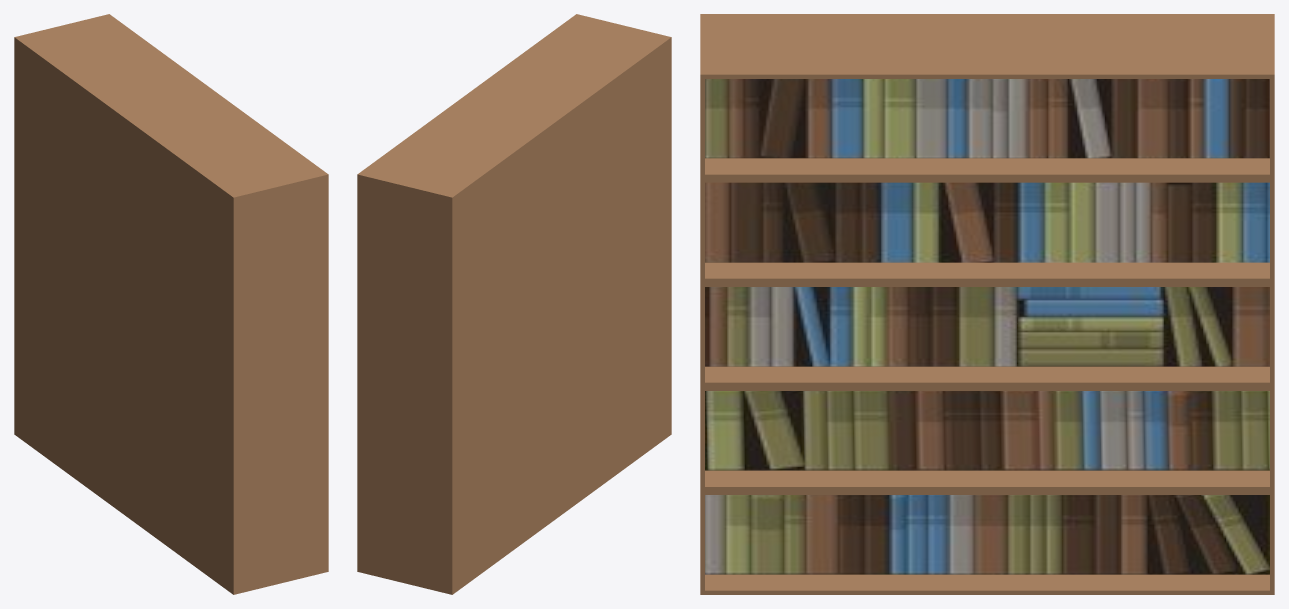
The model's file is Bookshelf.fbx.
3 renders of one model, left to right at view 1: azimuth 30°, elevation 25°; view 2: azimuth 150°, elevation 25°; view 3: azimuth 270°, elevation 25°, orthographic. The views are drawn at different scales.
Visible parts, largest first — view 1: Bookshelf; view 2: Bookshelf; view 3: Bookshelf.
Boxes of the visible parts, left/top/right/bottom form: Bookshelf: left=14, top=14, right=328, bottom=594; Bookshelf: left=357, top=14, right=671, bottom=594; Bookshelf: left=700, top=14, right=1274, bottom=594.
Size of the model in its own units: 50.05 by 200 by 200.
Materials: 2 (1 with a texture image).
